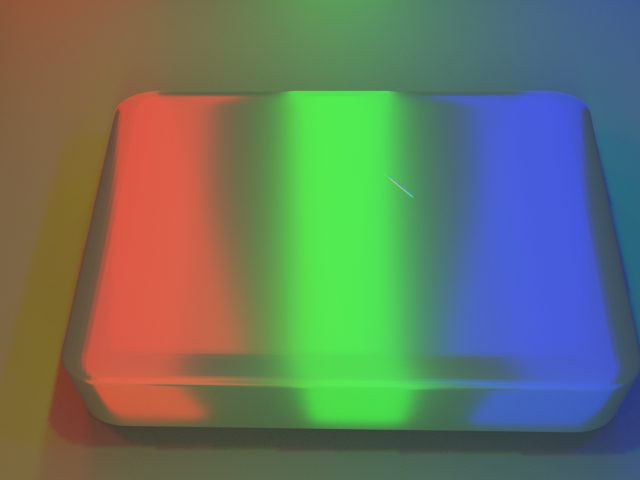scratch: (341, 141, 477, 216)
